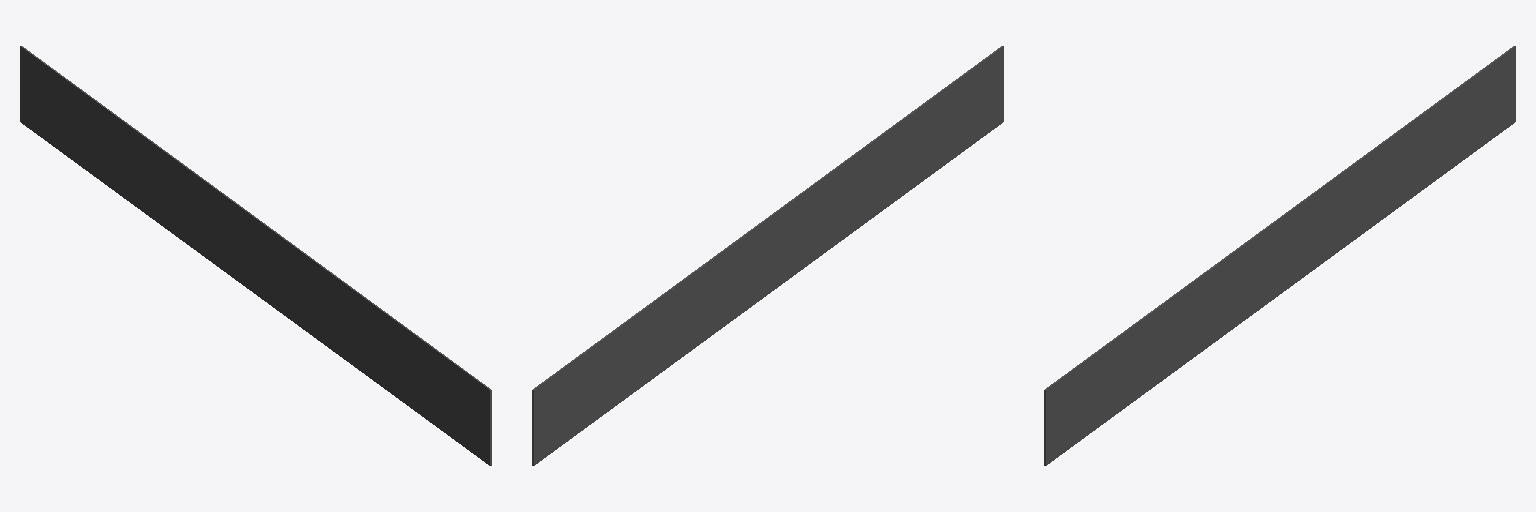
robot.urdf — counter_back#1:
<?xml version="1.0"?>
<robot name="counter_back#1">
    <material name="color">
        <color rgba="0.4 0.4 0.4 1"/>
    </material>
    <link name="base">
        <collision name="box_collision">
          <geometry>
            <box size="0.001 0.559 0.05"/>

          </geometry>
        </collision>
        <visual name="box_visual">
            <origin xyz="0 0 0" rpy="0 0 0"/>
          <material name="color"/>

          <geometry>
            <box size="0.001 0.559 0.05"/>
          </geometry>

        </visual>
        <inertial>
			<mass value="0.3"/>
			<inertia ixx="0.6" ixy="0.0" ixz="0.0" iyy="0.5" iyz="-0.0" izz="0.08"/>
		</inertial>
      </link>
</robot>

--- Render facts (derived) ---
3 views of the same robot in one strip: view 1: azimuth 30°, elevation 25°; view 2: azimuth 150°, elevation 25°; view 3: azimuth 330°, elevation 25° (orthographic).
Robot: counter_back#1 — 1 links, 0 joints (none); root link base; default pose: every joint at zero.
Links seen in each view (by area): view 1: base; view 2: base; view 3: base.
Link boxes in pixels (x1,y1,x2,y2): base: [20, 46, 491, 465]; base: [532, 46, 1003, 465]; base: [1044, 46, 1515, 465].
Size in the robot's own frame: 0.001 by 0.559 by 0.05 metres.
Geometry: primitives only (box / cylinder / sphere), no mesh files.